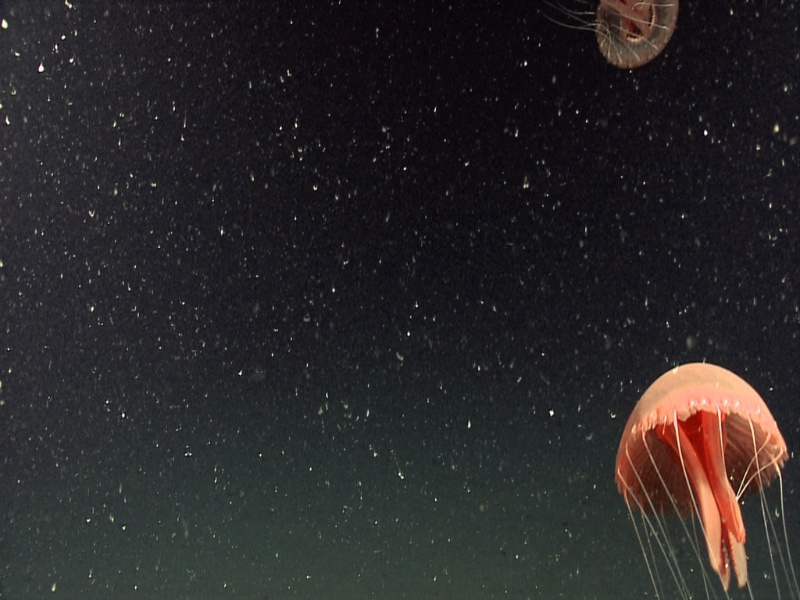Jellyfish: (632, 372, 795, 581), (558, 0, 680, 74)
